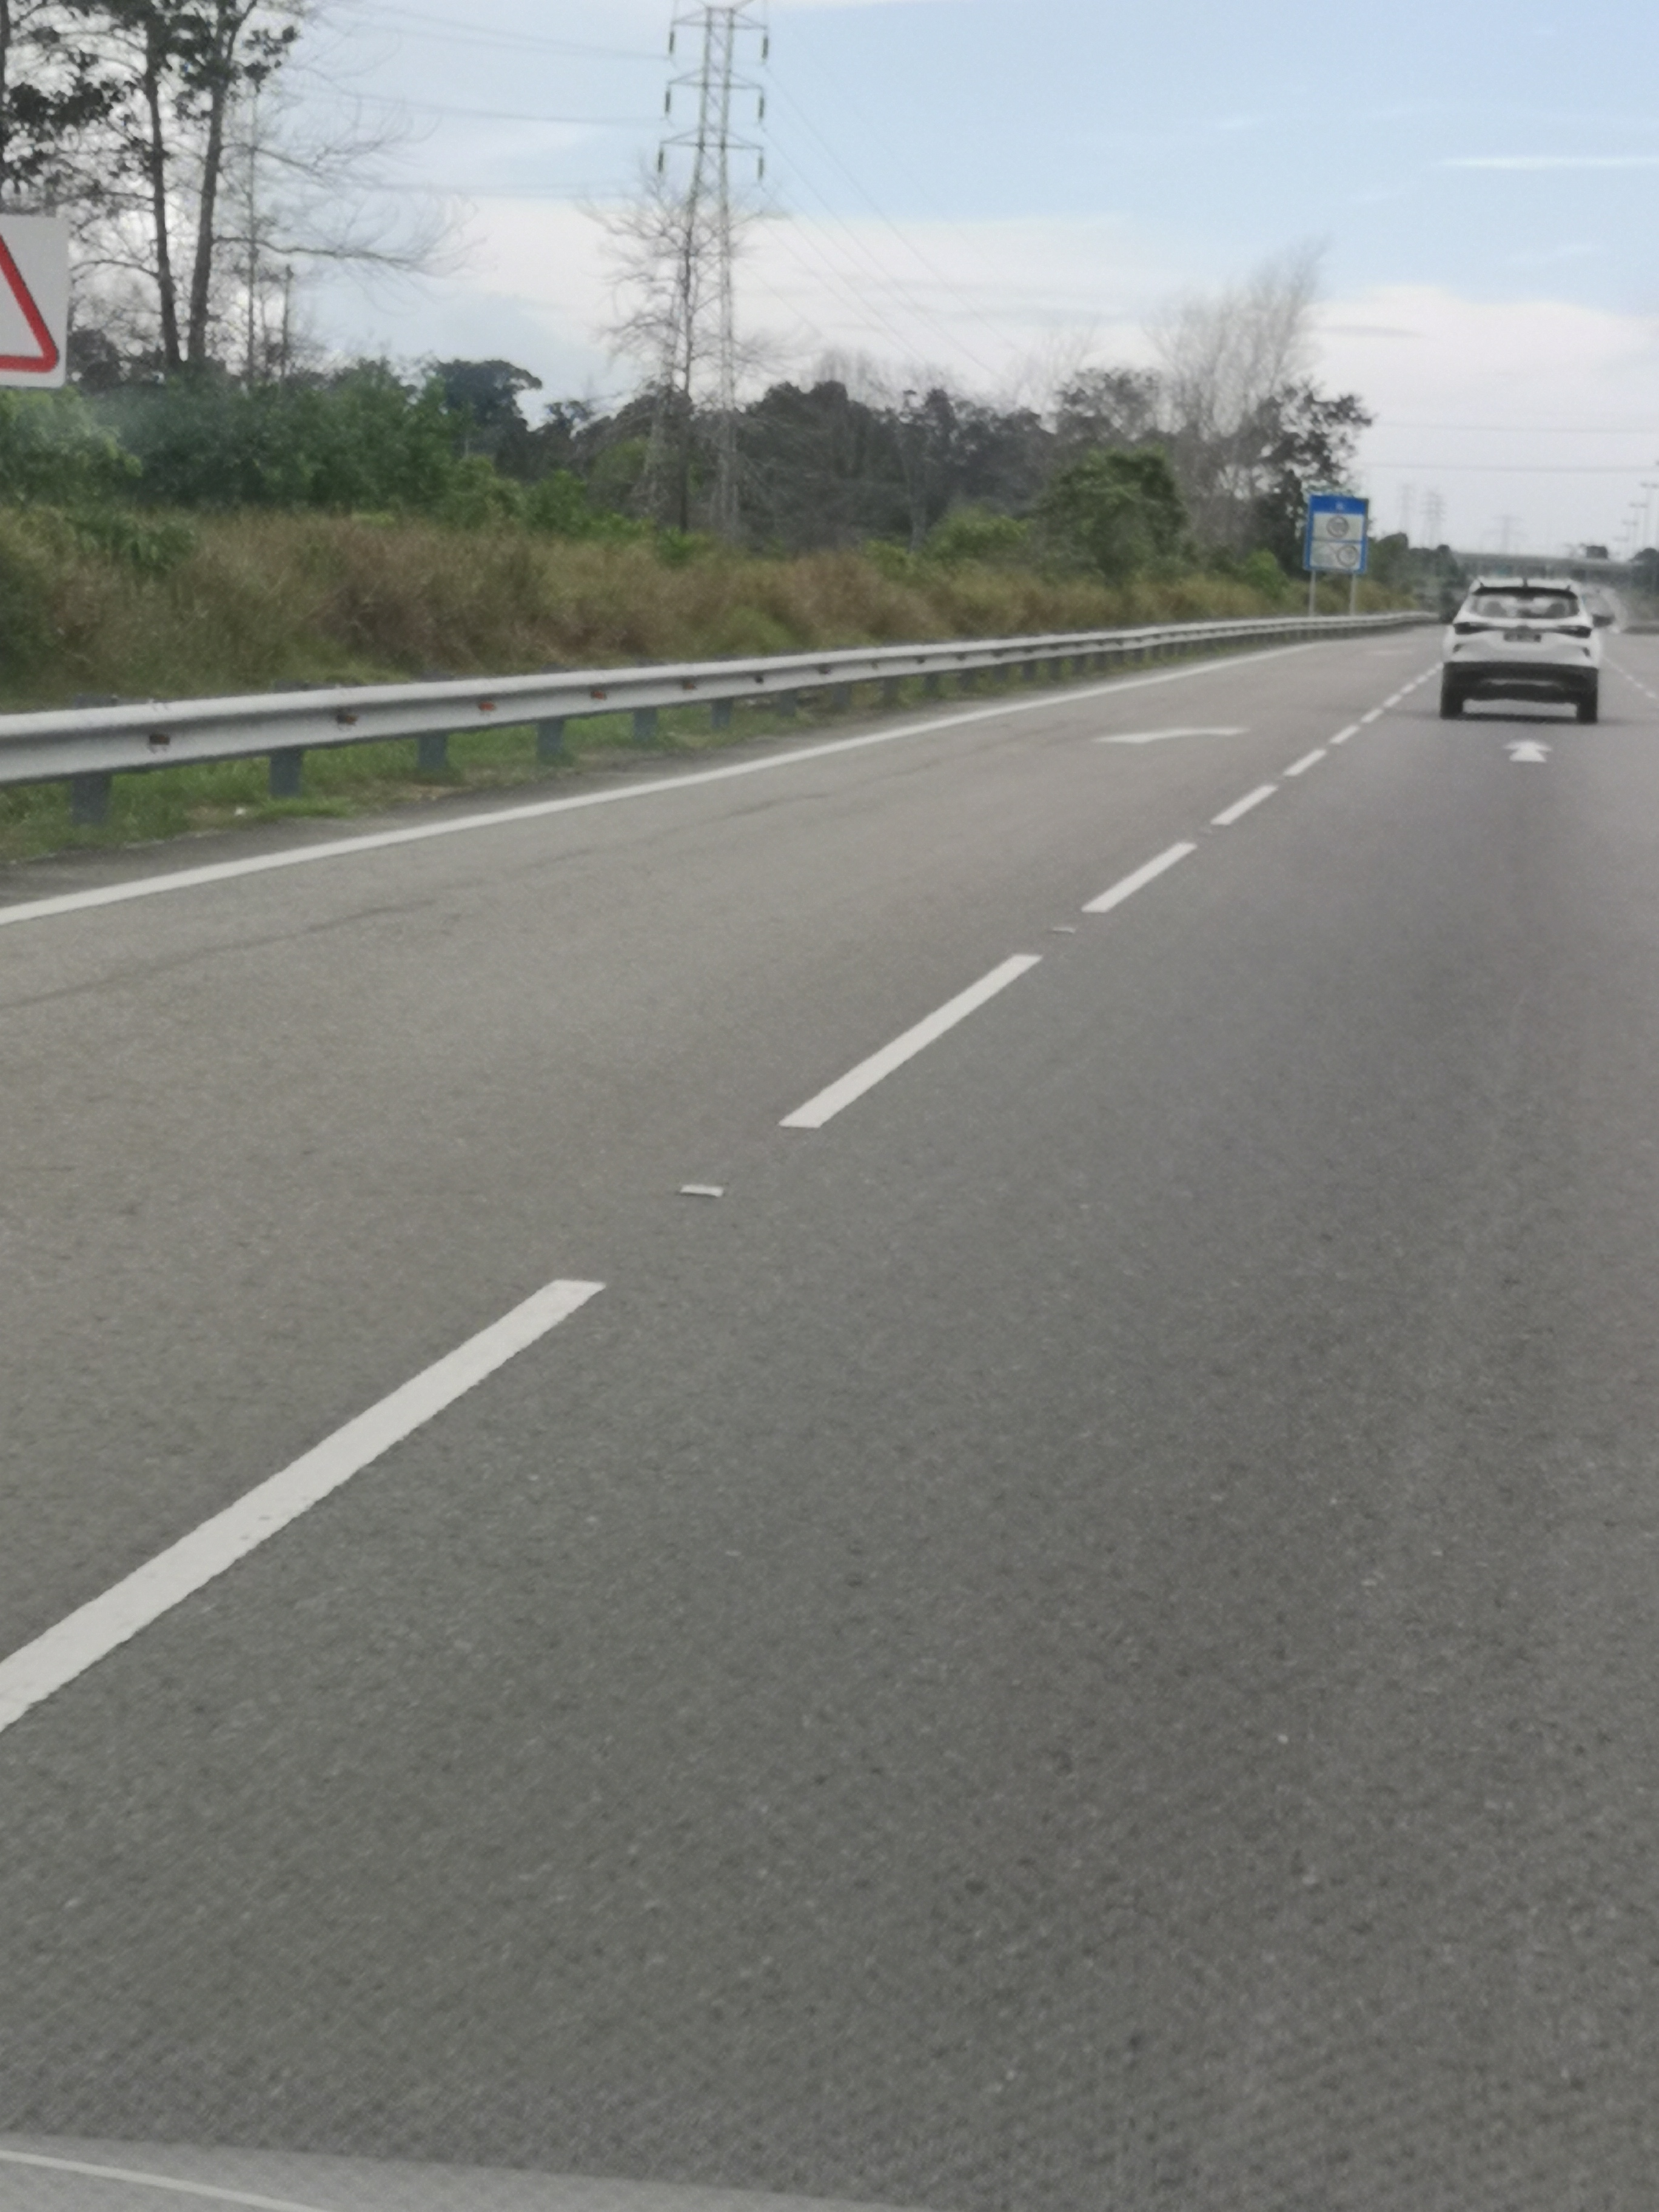bad weather: (1305, 543, 1337, 577)
speed limit 100: (1323, 505, 1354, 543)
speed limit 70: (1337, 538, 1359, 568)
